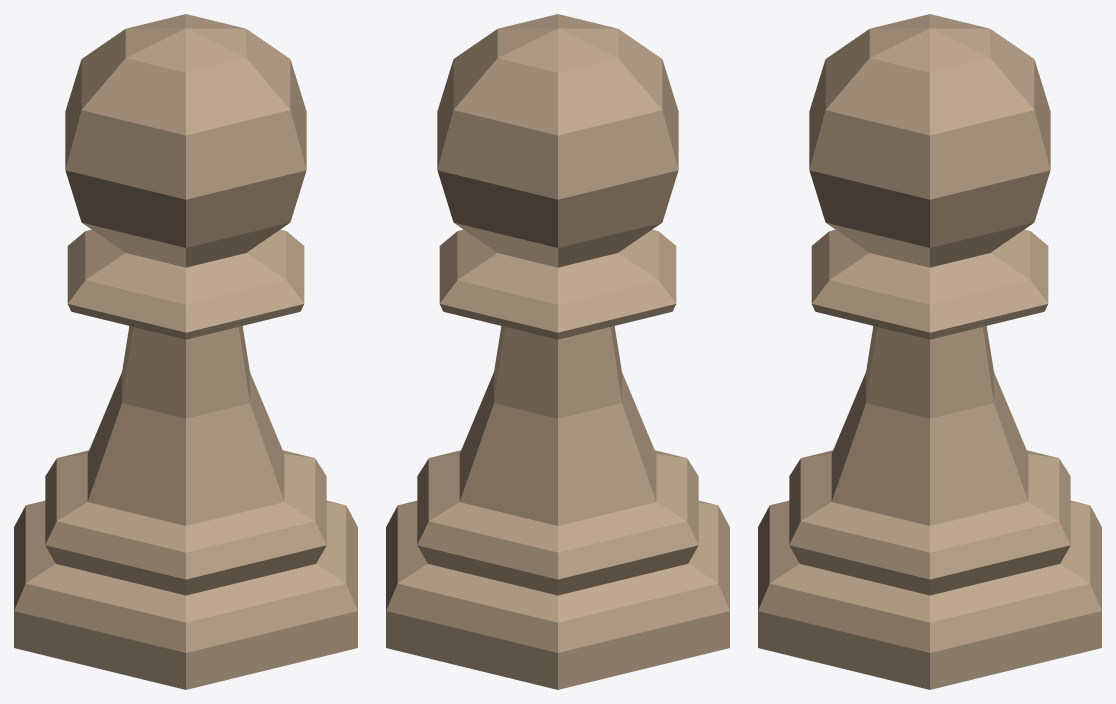
Rendered from pawn.obj.
3 renders of one model, left to right at view 1: azimuth 30°, elevation 25°; view 2: azimuth 150°, elevation 25°; view 3: azimuth 270°, elevation 25°, orthographic.
Visible parts, largest first — view 1: White_Pawn; view 2: White_Pawn; view 3: White_Pawn.
Part boxes in pixels (x1,y1,x2,y2): White_Pawn: [14, 14, 357, 689]; White_Pawn: [386, 14, 729, 689]; White_Pawn: [758, 14, 1101, 689].
Size of the model in its own units: 0.7559 by 1.21 by 0.6546.
